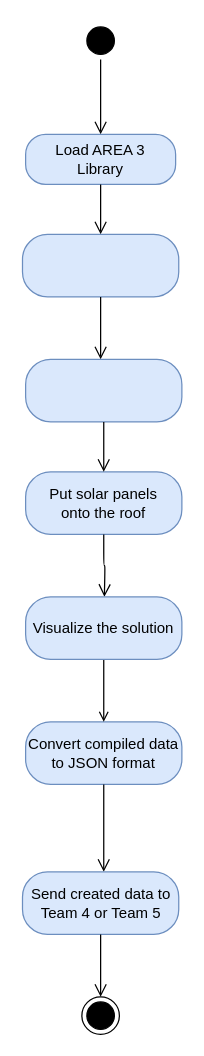
Image size: 204x1056. Some labels were removed from this diagram. Here are the shapes that lost their labels. From the top down, the centre of each, then its label:
the point at 100,265: Import roof data from AREA 1
the point at 103,390: Import matplotlib library
